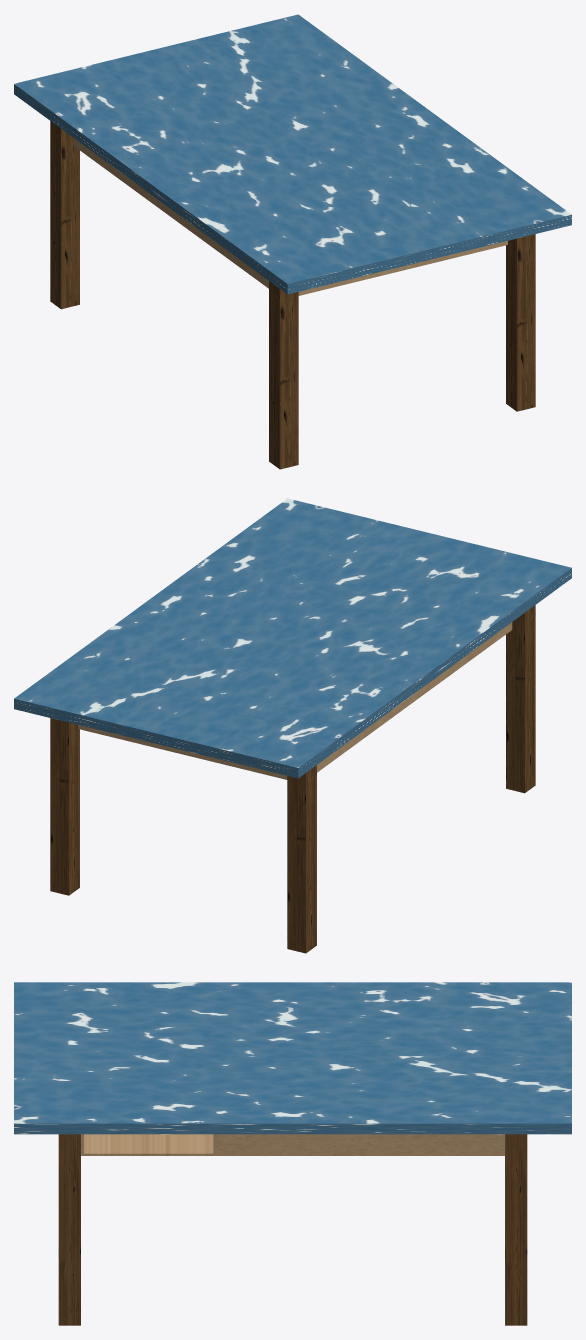
Rendered from TeachersBench.fbx.
The picture shows the model from 3 angles, top to bottom: view 1: azimuth 30°, elevation 25°; view 2: azimuth 150°, elevation 25°; view 3: azimuth 270°, elevation 25°; orthographic projection.
Visible parts, largest first — view 1: Table Top; view 2: Table Top; view 3: Table Top.
Part boxes in pixels (<box>): Table Top: <box>14,14,571,469</box>; Table Top: <box>14,498,571,953</box>; Table Top: <box>14,982,571,1325</box>.
Size of the model in its own units: 600 by 413 by 1000.
